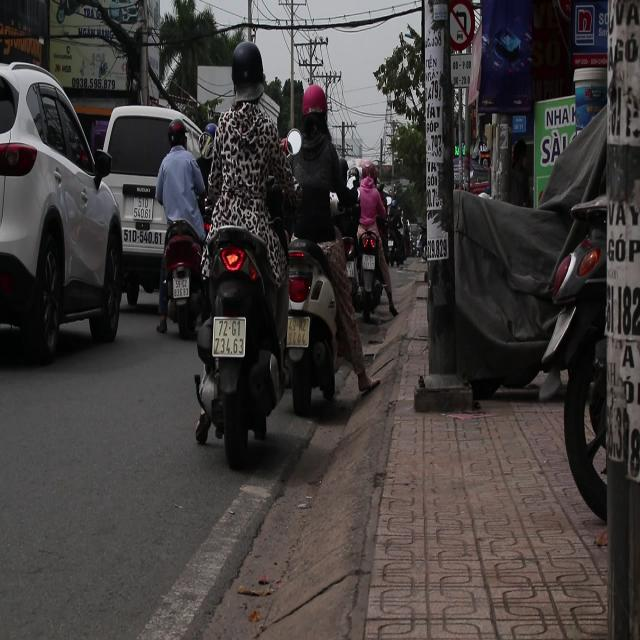car: (1, 55, 128, 366), (94, 104, 213, 313)
motorbike: (192, 220, 289, 462), (282, 230, 374, 417), (351, 215, 400, 352), (157, 225, 209, 340)
